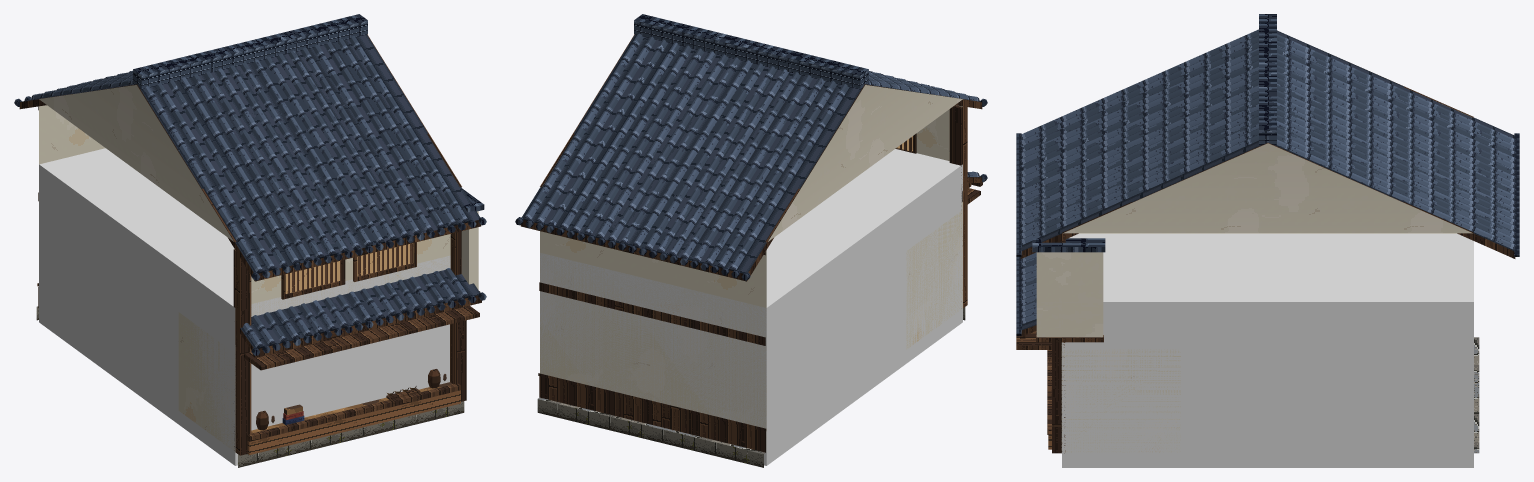
Rendered from JP_Row_Shop_B_M.glb.
The picture shows the model from 3 angles, left to right: view 1: azimuth 30°, elevation 25°; view 2: azimuth 150°, elevation 25°; view 3: azimuth 270°, elevation 25°; orthographic projection. The views are drawn at different scales.
Visible parts, largest first — view 1: JP_Row_Shop_B_M, COL_JP_Row_Shop_B_M; view 2: JP_Row_Shop_B_M, COL_JP_Row_Shop_B_M; view 3: JP_Row_Shop_B_M, COL_JP_Row_Shop_B_M.
Boxes of the visible parts, x1,y1,x2,y2 form: JP_Row_Shop_B_M: (14, 14, 486, 467); COL_JP_Row_Shop_B_M: (39, 148, 450, 465); JP_Row_Shop_B_M: (515, 14, 987, 467); COL_JP_Row_Shop_B_M: (540, 149, 962, 465); JP_Row_Shop_B_M: (1016, 14, 1519, 453); COL_JP_Row_Shop_B_M: (1062, 233, 1473, 467).
Bounding box in the file's own units: 6.31 × 8.14 × 11.
16 materials, 16 textured.
